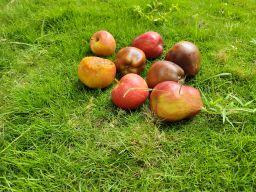apple: (141, 73, 211, 126), (161, 40, 208, 80), (141, 54, 189, 91), (105, 73, 150, 110), (78, 54, 117, 89), (112, 46, 149, 80), (85, 25, 121, 55), (130, 30, 167, 57)
